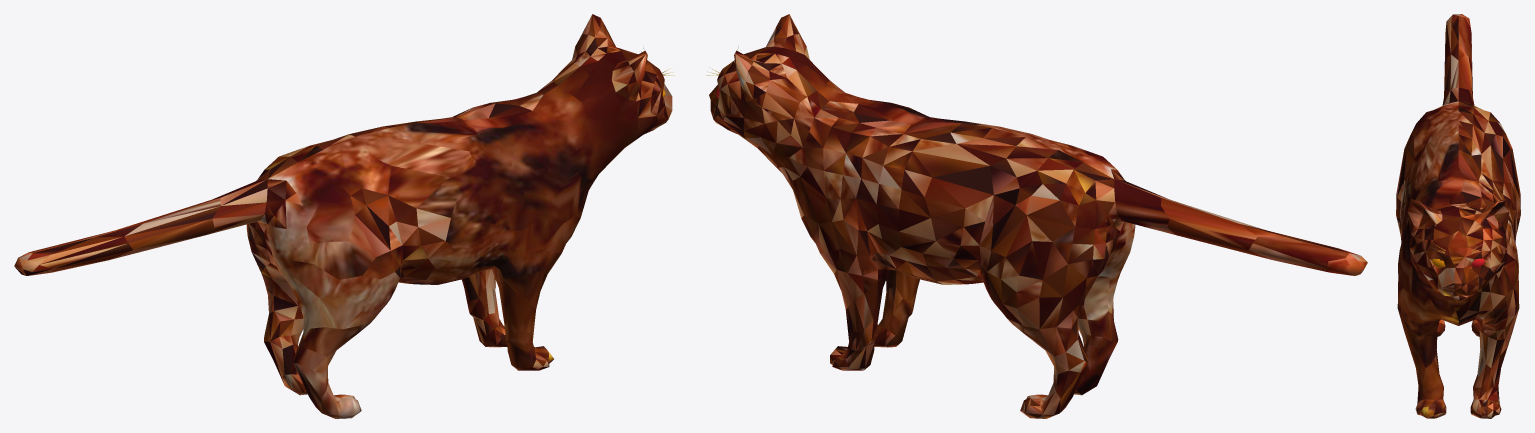
The model's file is gato.obj.
3 views of the same model, side by side, from view 1: azimuth 30°, elevation 25°; view 2: azimuth 150°, elevation 25°; view 3: azimuth 270°, elevation 25° (orthographic). The views are drawn at different scales.
Parts seen in each view (by area): view 1: grp1; view 2: grp1; view 3: grp1.
Part boxes in pixels (box(x1,y1,x2,y2)): grp1: box(14, 14, 674, 418); grp1: box(706, 14, 1367, 418); grp1: box(1396, 14, 1520, 418).
Size of the model in its own units: 15.24 by 6.62 by 2.89.
